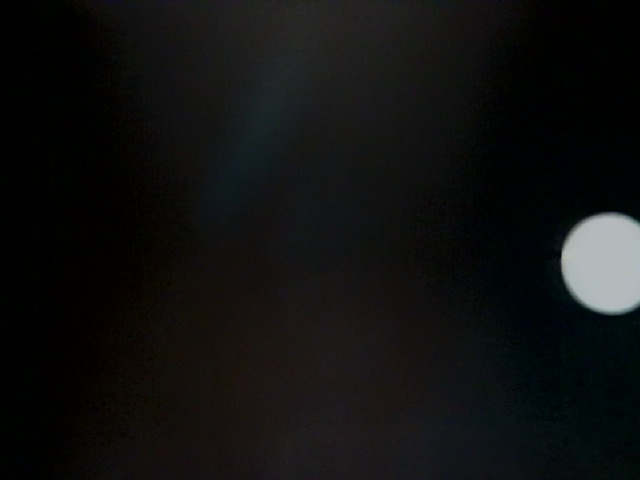KHSLJ: (299, 374, 303, 378)
